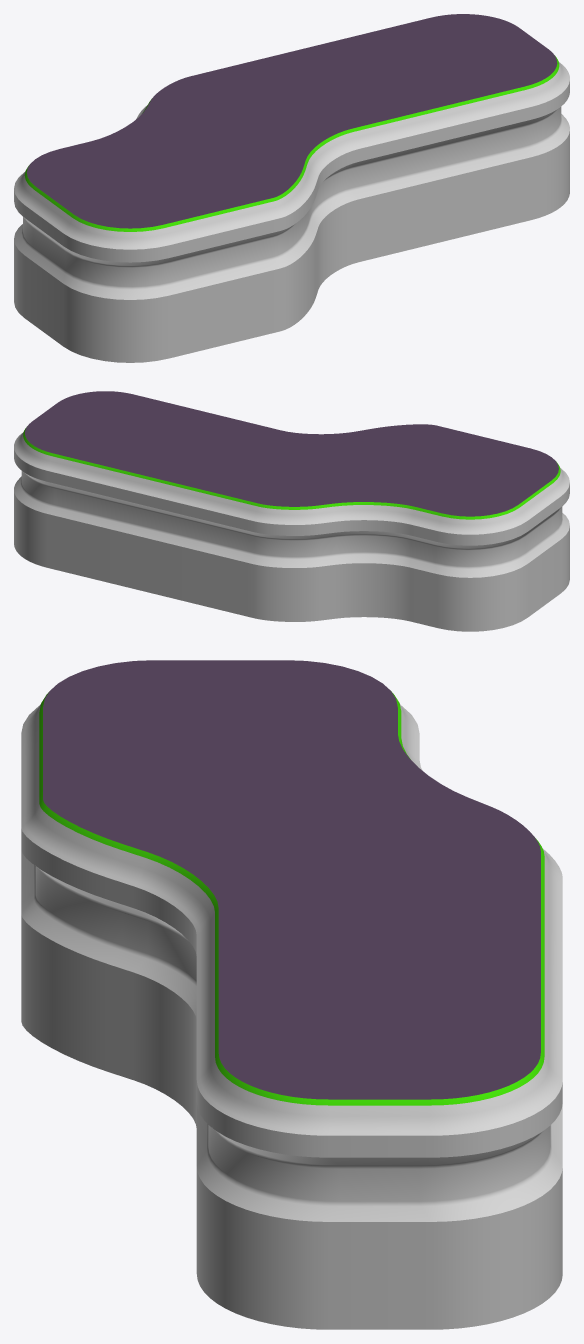
File: Room.fbx
3 renders of one model, top to bottom at view 1: azimuth 30°, elevation 25°; view 2: azimuth 150°, elevation 25°; view 3: azimuth 270°, elevation 25°, orthographic. The views are drawn at different scales.
Parts seen in each view (by area): view 1: Room; view 2: Room; view 3: Room.
Boxes of the visible parts, x1=… form: Room: x1=14, y1=14, x2=569, y2=362; Room: x1=14, y1=391, x2=569, y2=631; Room: x1=21, y1=660, x2=562, y2=1329.
Size of the model in its own units: 23.73 by 5.34 by 11.86.
